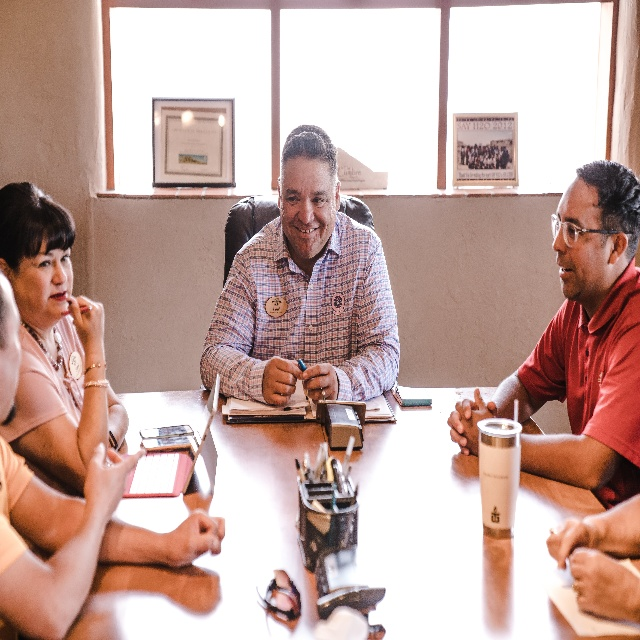Gafas: (549, 212, 636, 248)
Sin_guantes: (567, 546, 640, 626), (87, 442, 146, 524), (447, 396, 496, 455), (174, 511, 226, 565), (545, 517, 593, 572), (457, 387, 492, 456), (261, 354, 304, 408), (301, 362, 338, 406), (87, 294, 105, 358)
